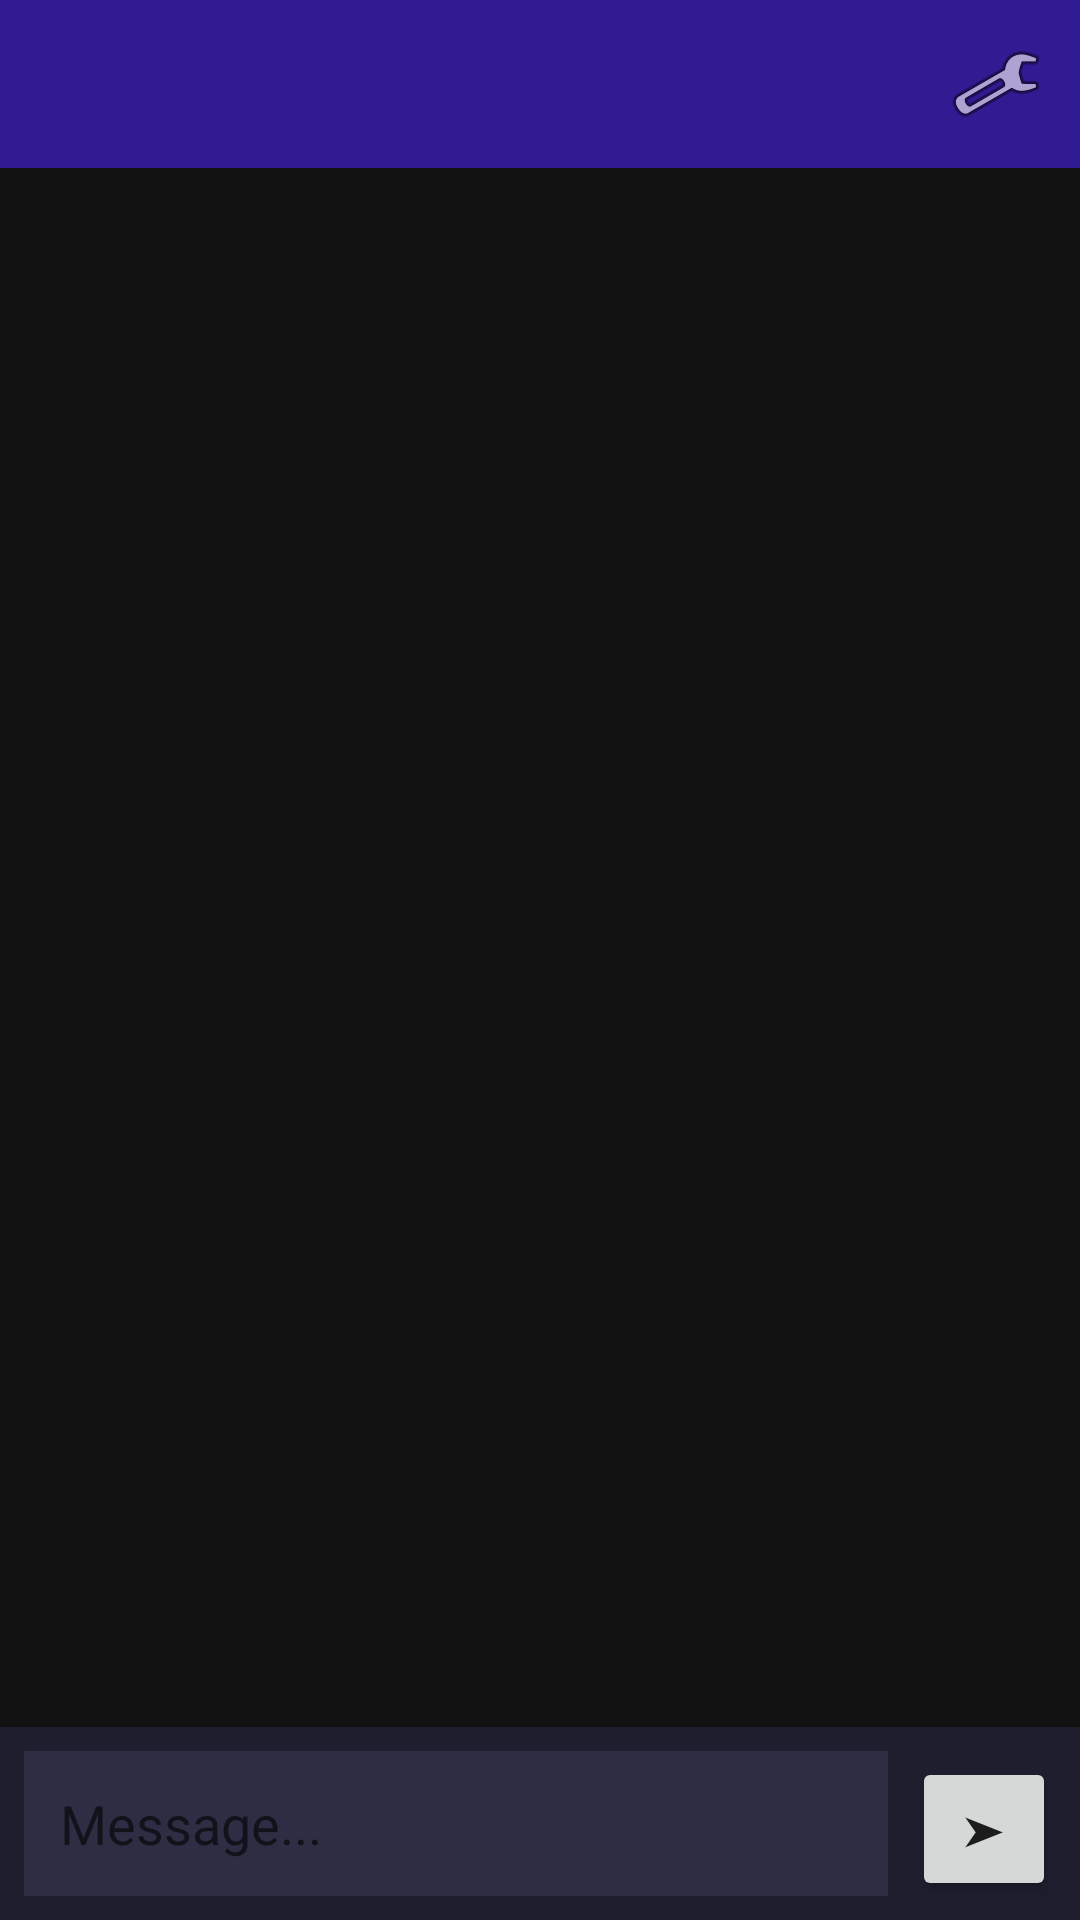

Icon click points for this 1080*1920 phone screenshot, format (x=x, y=y):
preferences: (x=996, y=84)
